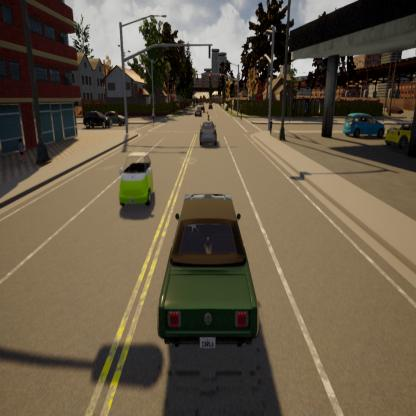Cars: (160, 191, 259, 351), (119, 155, 153, 208), (344, 108, 384, 140), (386, 113, 414, 150), (83, 110, 111, 131), (199, 120, 217, 148), (105, 110, 125, 127)
Pedestrian: (18, 135, 27, 166), (150, 101, 156, 126), (207, 108, 211, 121)
